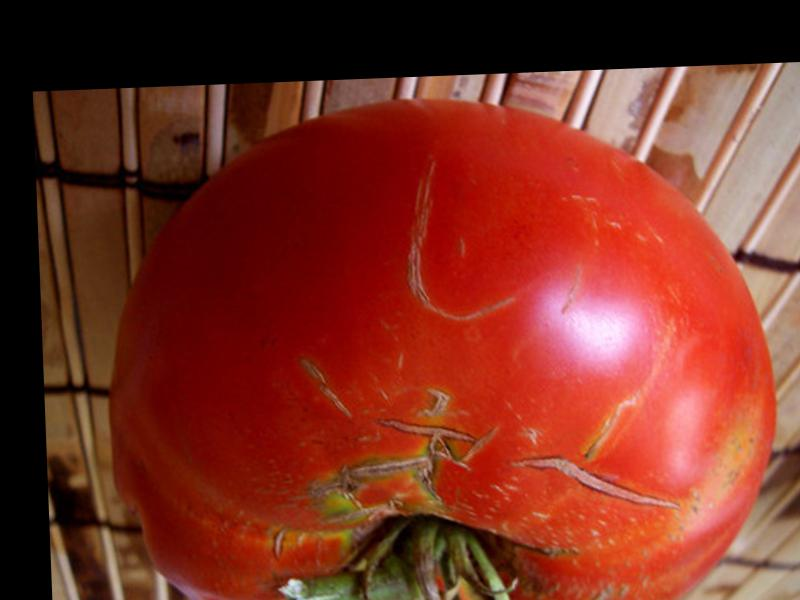Tomato: (98, 94, 783, 600)
